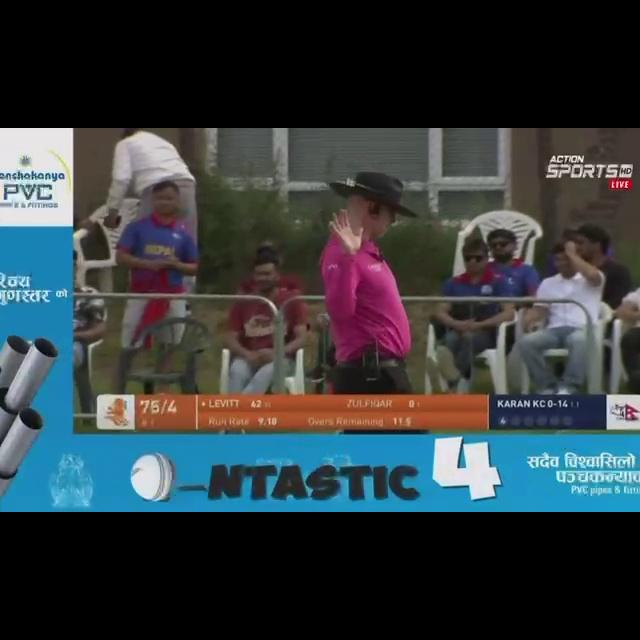umpire: (285, 160, 464, 393)
